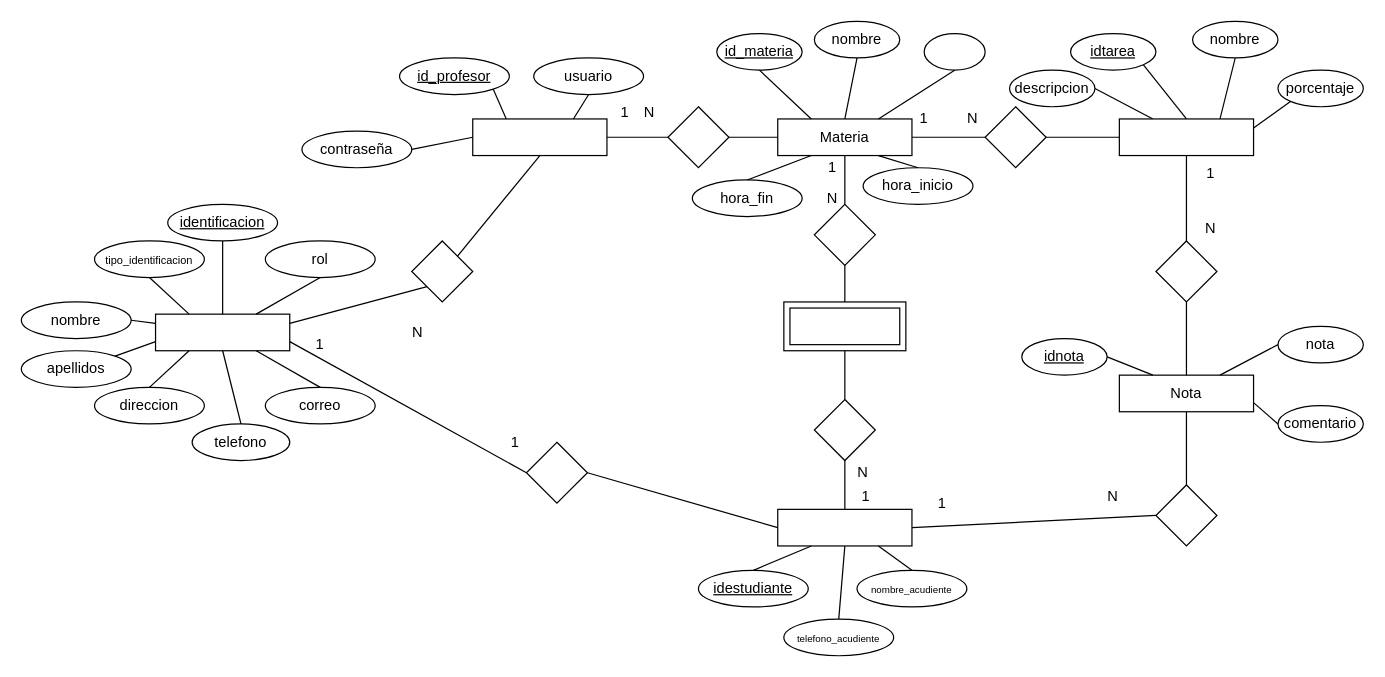
The diagram is 1385 pixels wide and 677 high, and some of its shapes have lost their labels. The centre of each missing label's shape, as x and y in pixels:
"dia" goes at [954,51].
"Estudiante" goes at [844,527].
"Persona" goes at [222,332].
"Profesor" goes at [539,137].
"Registra" goes at [844,326].
"Tarea" goes at [1186,137].
